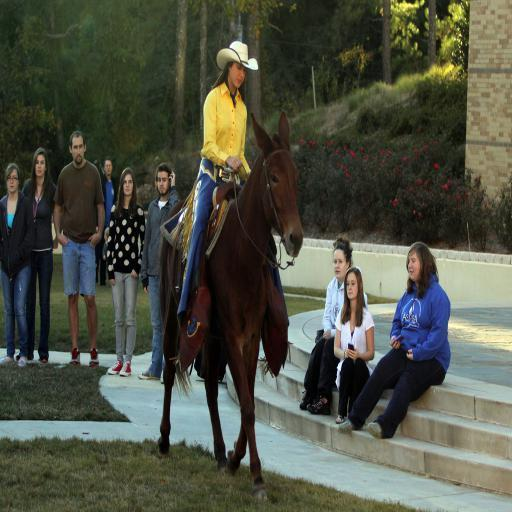horse: (155, 108, 305, 504)
